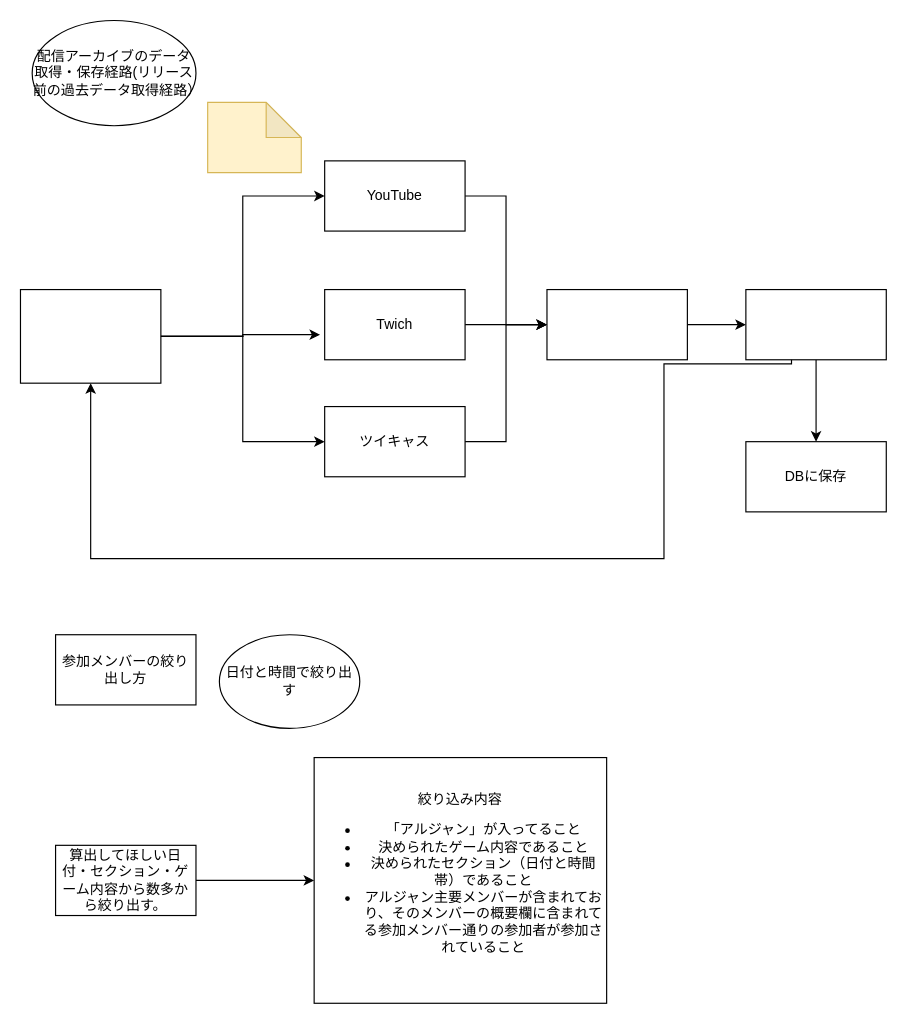
Some shapes in this 907 by 1024 pixel diagram are drawn without their labels. The shapes that lost their labels are listed below. From the top down, each one's centre as x and y in pixels, then its label:
At (254,137): "取得しに行く".
At (90,335): "管理者画面 から取得(全日を試みる。できなければ日付＋キャラクター選定指定）".
At (616,324): "スプシに一時保存".
At (815,324): "サイトに表示 保存or再取得".
